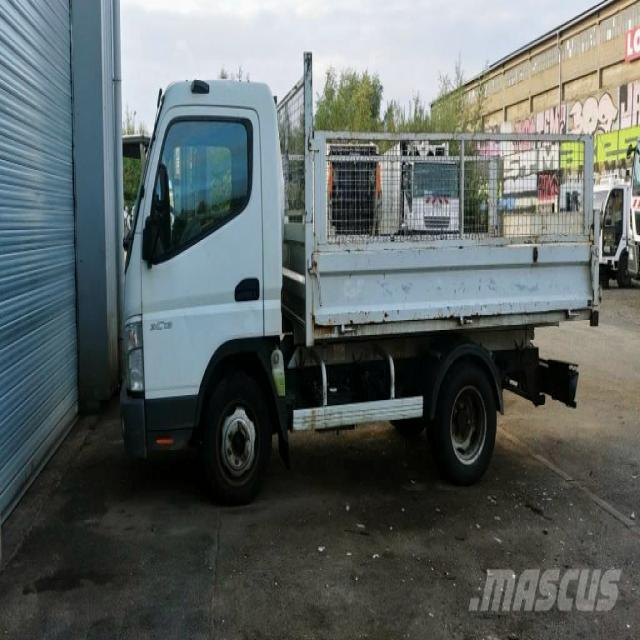truck: (117, 54, 602, 505)
